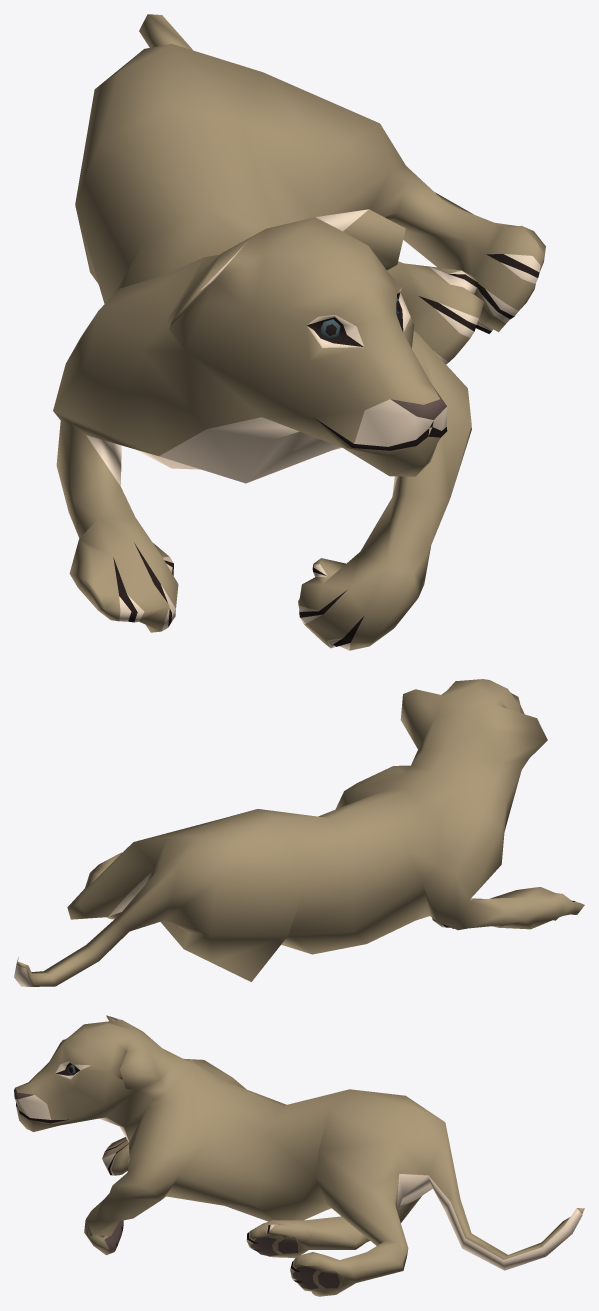
File: lionmom.gltf
3 renders of one model, top to bottom at view 1: azimuth 30°, elevation 25°; view 2: azimuth 150°, elevation 25°; view 3: azimuth 270°, elevation 25°, orthographic. The views are drawn at different scales.
Parts seen in each view (by area): view 1: lionmom; view 2: lionmom; view 3: lionmom.
Part boxes in pixels (x1,y1,x2,y2): lionmom: [53, 14, 545, 650]; lionmom: [14, 679, 584, 986]; lionmom: [14, 1015, 584, 1296].
Bounding box in the file's own units: 0.9329 × 0.5996 × 1.44.
